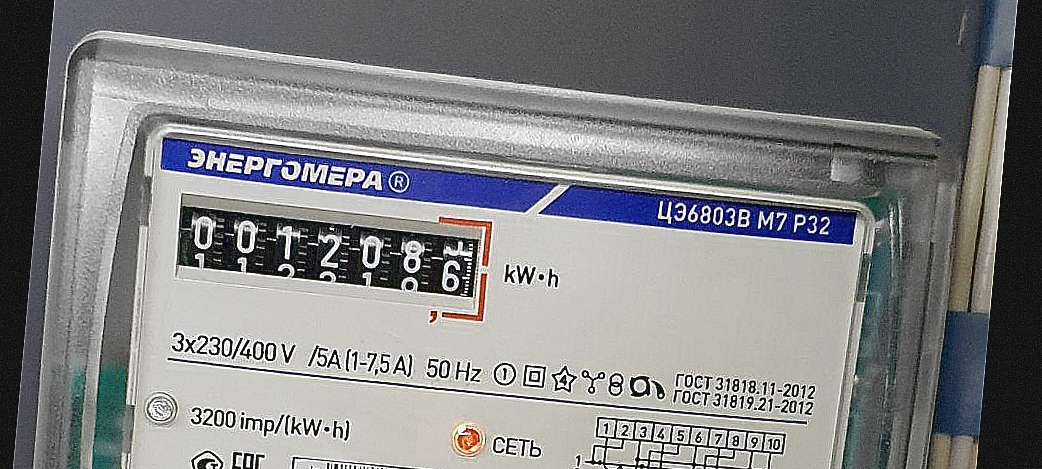0: (189, 211, 218, 252), (233, 217, 260, 256), (357, 232, 384, 270)
1: (274, 221, 298, 262)
2: (316, 230, 345, 270)
6: (437, 256, 463, 294)
8: (397, 236, 426, 275)
screen: (164, 185, 502, 328)
